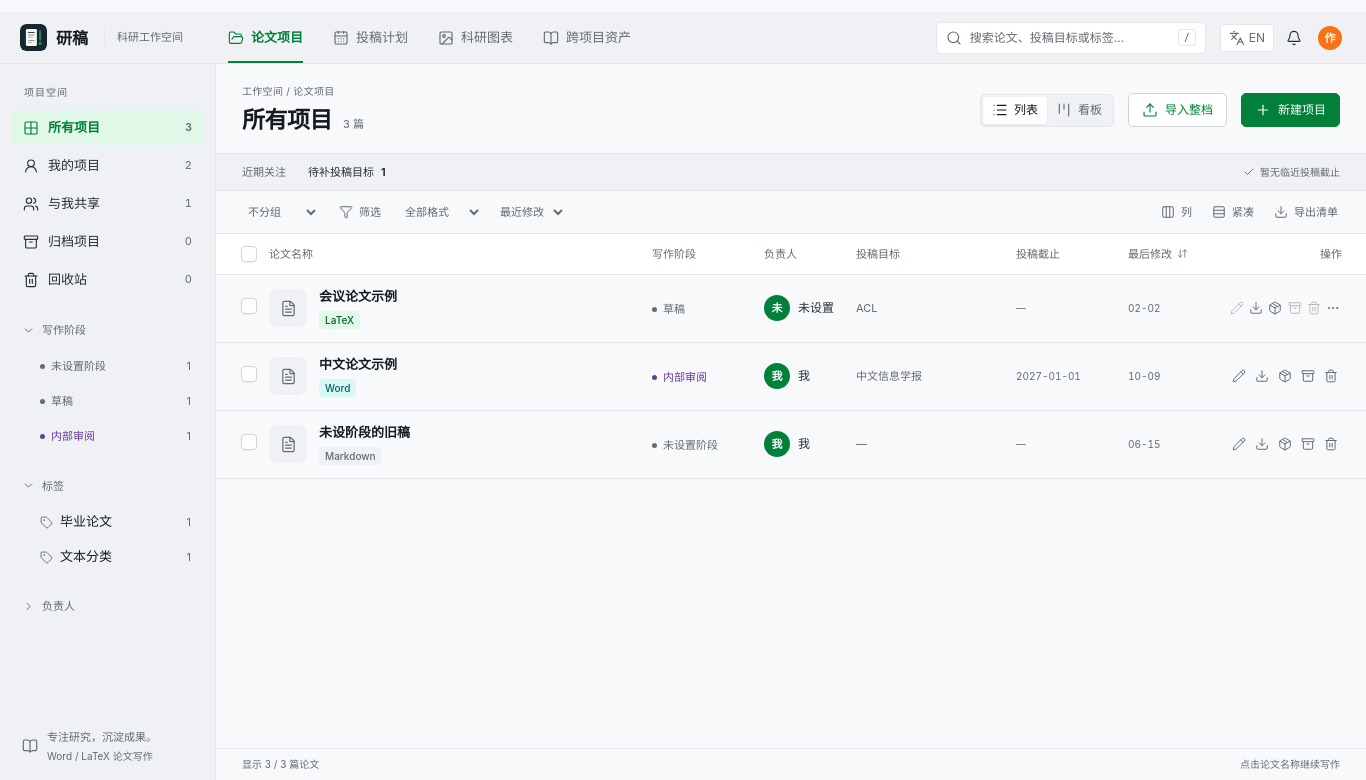
Test: 列表下载不把保存中、失败或缺失快照当成可下载的最新版本 0
The width and height of the screenshot is (1366, 780).
Click the button named "下载 中文论文示例 的已保存 Word 版本": (1262, 376) [1251,362,1272,390]
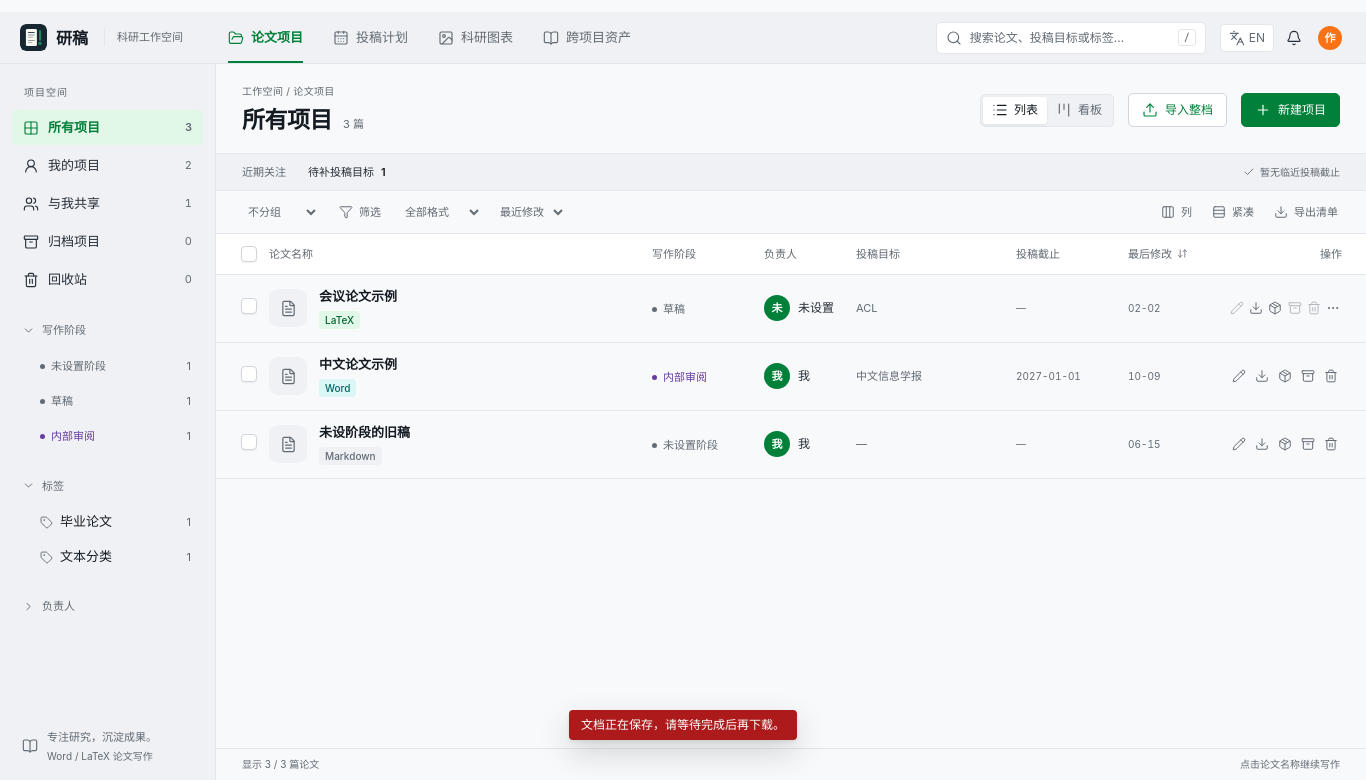
Check: the text "文档正在保存" is shown, box [581,717,785,732]
